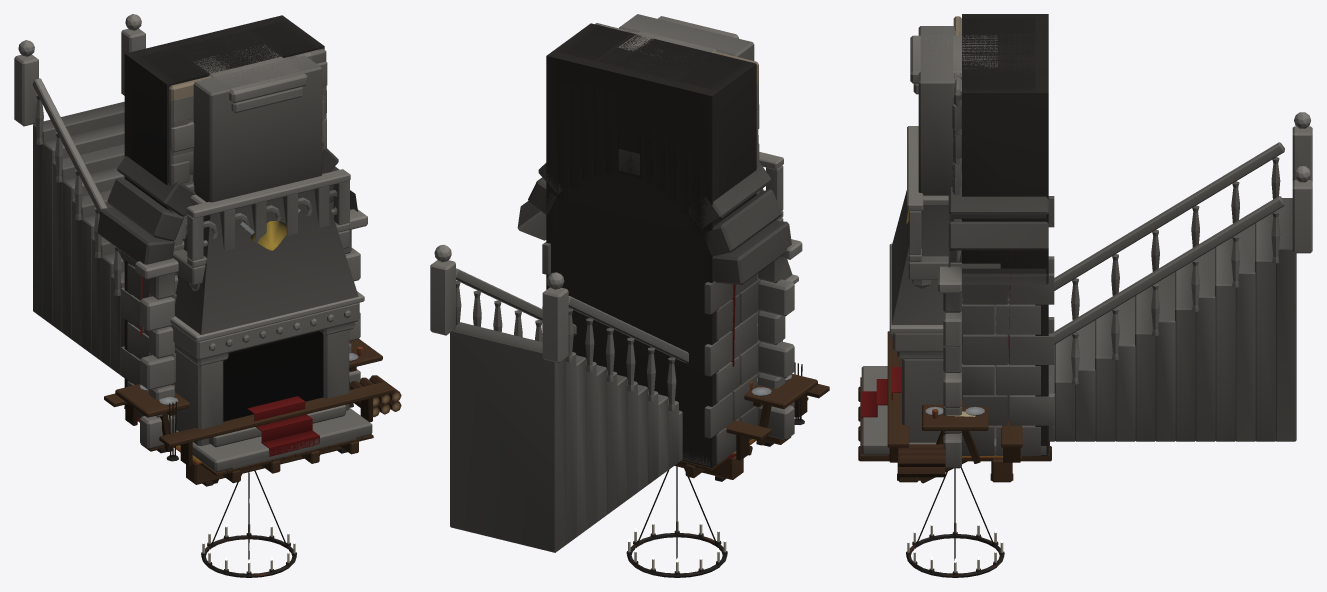
The model's file is burg.glb.
The picture shows the model from 3 angles, left to right: view 1: azimuth 30°, elevation 25°; view 2: azimuth 150°, elevation 25°; view 3: azimuth 270°, elevation 25°; orthographic projection. The views are drawn at different scales.
Visible parts, largest first — view 1: kamin1_stein, bogen2_stein, treppe1_stein, galerie1_stein, thron1_holz, tafel1_holz, pfeiler1_stein, bogen1_stein, fallgitter1_stein, radleuchter1_eisen, decke1_holz, decke2_holz (+1 smaller); view 2: bogen2_stein, treppe1_stein, bogen1_stein, fallgitter1_stein, tafel1_holz, kamin1_stein, radleuchter1_eisen, pfeiler1_stein, galerie1_stein, decke1_holz, wand1_stein, decke2_holz; view 3: treppe1_stein, bogen2_stein, kamin1_stein, tafel1_holz, galerie1_stein, thron1_holz, bogen1_stein, radleuchter1_eisen, wand1_stein, pfeiler1_stein, decke2_holz, fallgitter1_stein (+1 smaller).
Boxes of the visible parts, x1,y1,x2,y2 form: kamin1_stein: [166, 55, 401, 469]; bogen2_stein: [97, 16, 367, 448]; treppe1_stein: [14, 14, 145, 377]; galerie1_stein: [172, 169, 350, 290]; thron1_holz: [140, 275, 372, 472]; tafel1_holz: [104, 339, 393, 466]; pfeiler1_stein: [194, 45, 307, 113]; bogen1_stein: [124, 15, 326, 387]; fallgitter1_stein: [124, 16, 326, 406]; radleuchter1_eisen: [201, 470, 296, 577]; decke1_holz: [141, 436, 373, 484]; decke2_holz: [124, 406, 373, 486]; bogen2_stein: [517, 23, 802, 466]; treppe1_stein: [430, 245, 688, 552]; bogen1_stein: [546, 23, 758, 467]; fallgitter1_stein: [546, 24, 759, 437]; tafel1_holz: [725, 374, 829, 460]; kamin1_stein: [619, 14, 804, 424]; radleuchter1_eisen: [626, 466, 727, 577]; pfeiler1_stein: [618, 16, 738, 57]; galerie1_stein: [759, 152, 783, 221]; decke1_holz: [674, 399, 808, 479]; wand1_stein: [595, 37, 710, 79]; decke2_holz: [676, 397, 808, 481]; treppe1_stein: [1048, 112, 1312, 441]; bogen2_stein: [938, 14, 1054, 468]; kamin1_stein: [889, 26, 955, 477]; tafel1_holz: [887, 331, 1022, 463]; galerie1_stein: [907, 126, 1000, 439]; thron1_holz: [861, 250, 1046, 455]; bogen1_stein: [952, 14, 1048, 456]; radleuchter1_eisen: [906, 467, 1004, 577]; wand1_stein: [965, 33, 1048, 72]; pfeiler1_stein: [910, 35, 997, 94]; decke2_holz: [858, 377, 1051, 483]; fallgitter1_stein: [952, 14, 1046, 421].
Size of the model in its own units: 4.32 by 8.33 by 6.8.
